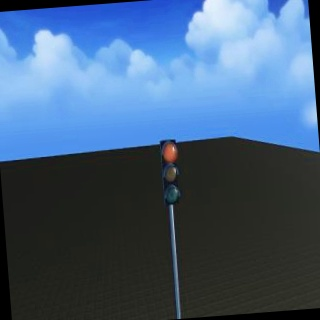sinalRed: (156, 137, 183, 213)
